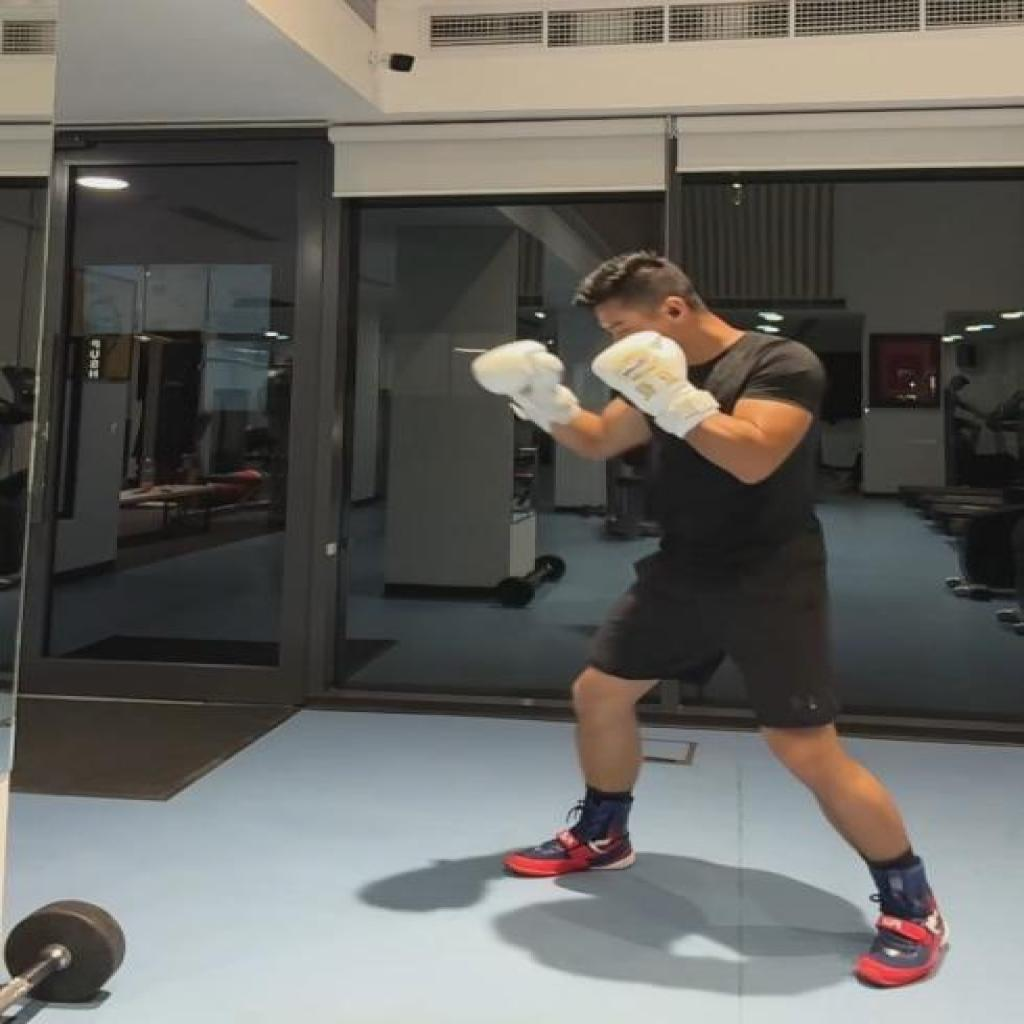no punch: (474, 251, 951, 992)
